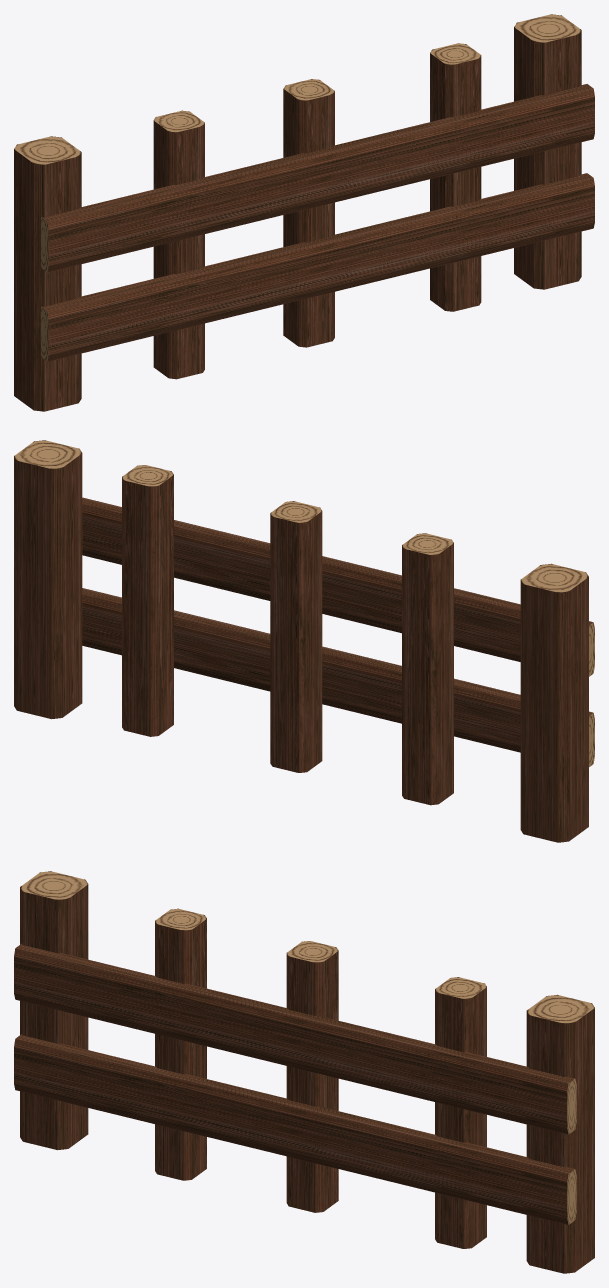
Rendered from fence4.fbx.
The picture shows the model from 3 angles, top to bottom: view 1: azimuth 30°, elevation 25°; view 2: azimuth 150°, elevation 25°; view 3: azimuth 330°, elevation 25°; orthographic projection.
Visible parts, largest first — view 1: Cube.007; view 2: Cube.007; view 3: Cube.007.
Boxes of the visible parts, bbox=[...] form: Cube.007: bbox=[14, 14, 594, 411]; Cube.007: bbox=[14, 440, 594, 842]; Cube.007: bbox=[14, 871, 594, 1273].
Bounding box in the file's own units: 137 × 58.88 × 14.74.
